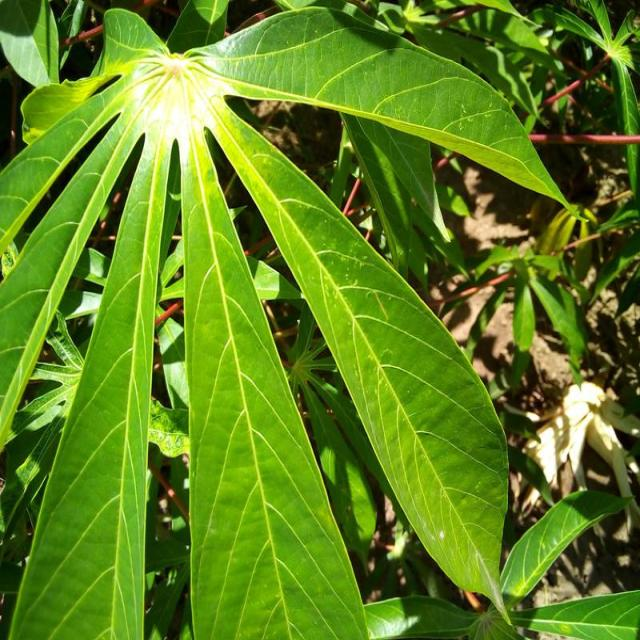cassava leaf: (1, 1, 582, 638)
